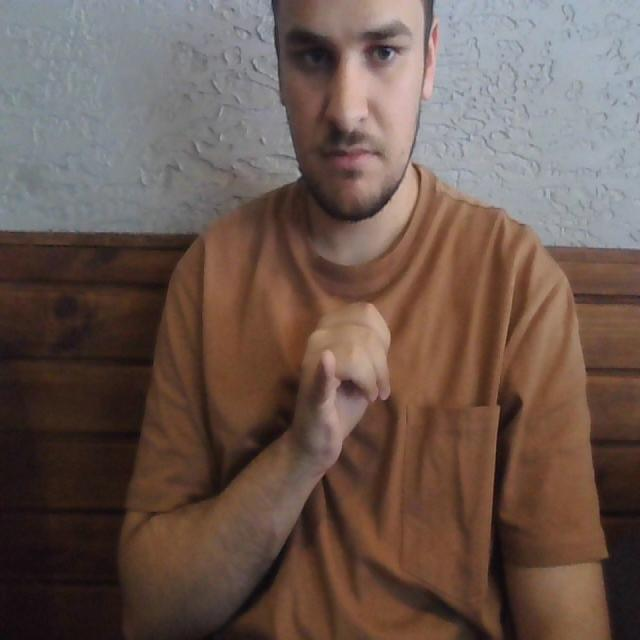kotu: (294, 294, 399, 448)
